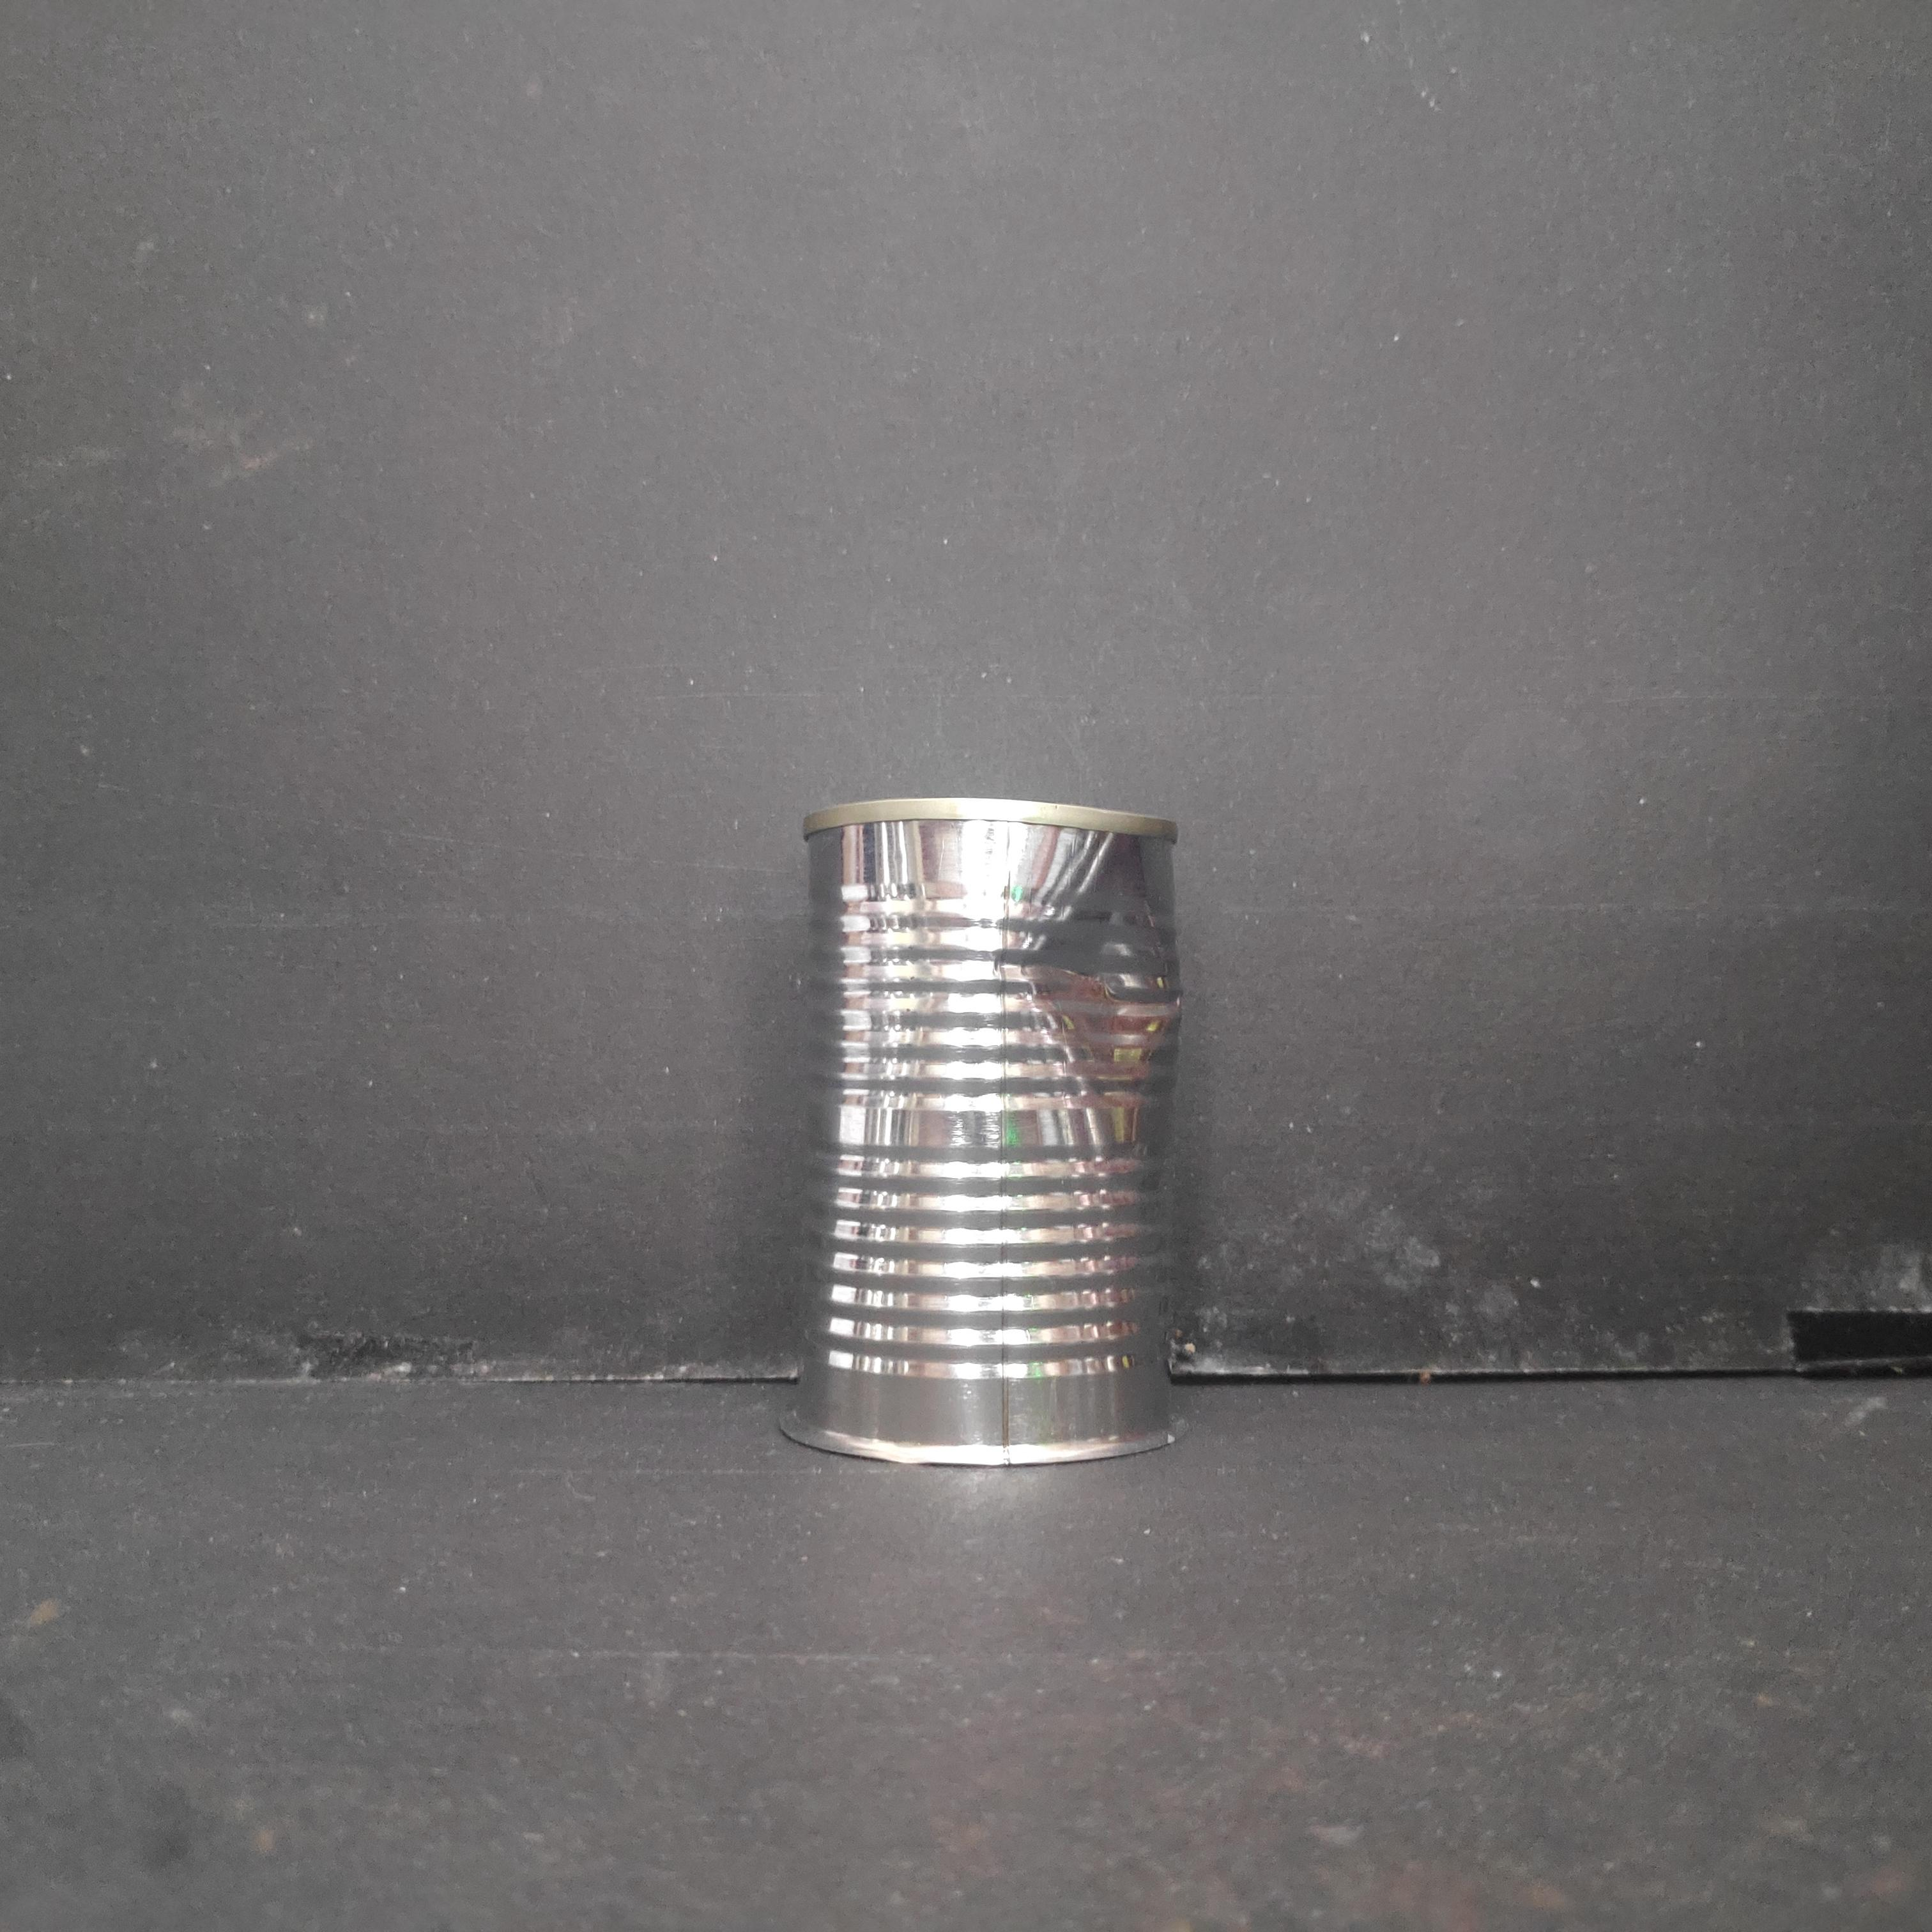Minor Defect: (793, 790, 1193, 1479)
